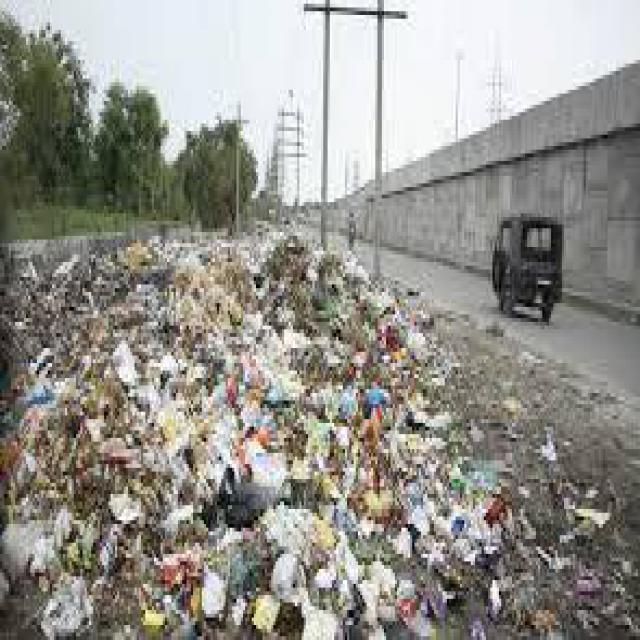garbage: (0, 202, 482, 636), (475, 359, 638, 636)
